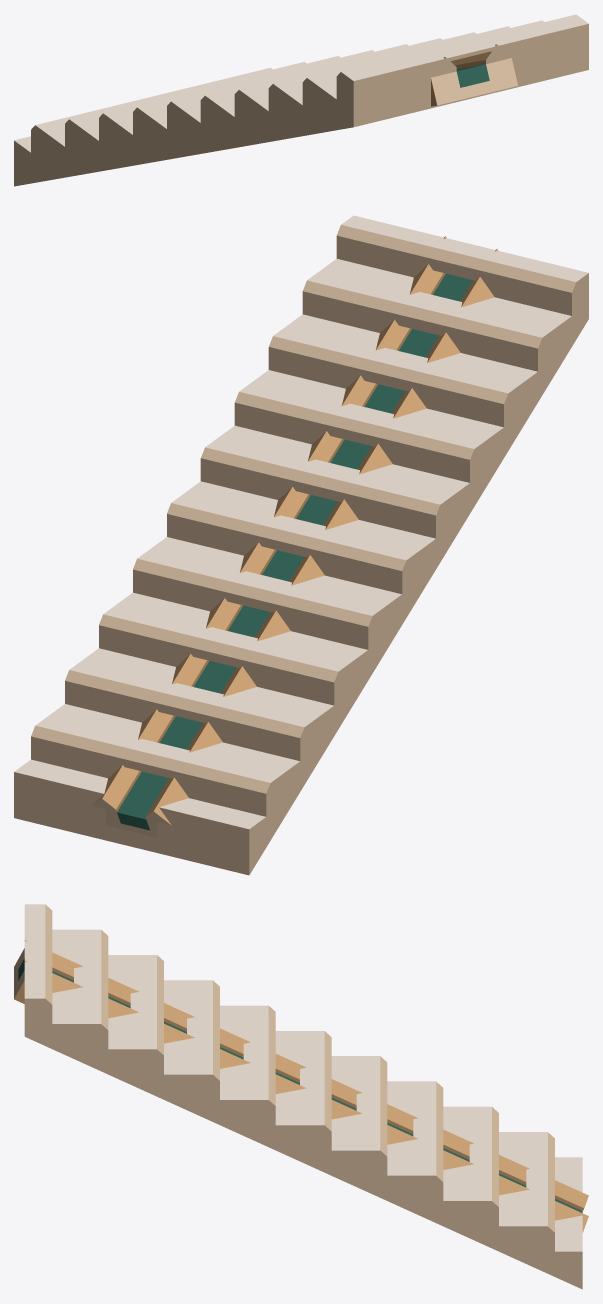
File: Puzzle_Steps_Conduit.fbx
3 renders of one model, top to bottom at view 1: azimuth 30°, elevation 25°; view 2: azimuth 150°, elevation 25°; view 3: azimuth 270°, elevation 25°, orthographic. The views are drawn at different scales.
Parts seen in each view (by area): view 1: Sandstone_Trim.Sandstone_Trim.Sandstone_Trim.Sandstone_Trim., Sandstone_Floor.Sandstone_Floor.Sandstone_Floor.Sandstone_Fl, Sandstone_Trim.Sandstone_Trim.Sandstone_Trim.Sandstone_Trim, object2, Sandstone_5.Sandstone_5.Sandstone_5.Sandstone_5.object1; view 2: Sandstone_Trim.Sandstone_Trim.Sandstone_Trim.Sandstone_Trim., Sandstone_Floor.Sandstone_Floor.Sandstone_Floor.Sandstone_Fl, Sandstone_5.Sandstone_5.Sandstone_5.Sandstone_5.object1, object2, Sandstone_Trim.Sandstone_Trim.Sandstone_Trim.Sandstone_Trim; view 3: Sandstone_Floor.Sandstone_Floor.Sandstone_Floor.Sandstone_Fl, Sandstone_Trim.Sandstone_Trim.Sandstone_Trim.Sandstone_Trim., Sandstone_5.Sandstone_5.Sandstone_5.Sandstone_5.object1, object2.
Part boxes in pixels (box(x1,y1,x2,y2)): Sandstone_Trim.Sandstone_Trim.Sandstone_Trim.Sandstone_Trim.: box(14, 24, 588, 186); Sandstone_Floor.Sandstone_Floor.Sandstone_Floor.Sandstone_Fl: box(14, 14, 588, 152); Sandstone_Trim.Sandstone_Trim.Sandstone_Trim.Sandstone_Trim: box(431, 44, 517, 105); object2: box(456, 64, 489, 87); Sandstone_5.Sandstone_5.Sandstone_5.Sandstone_5.object1: box(431, 44, 496, 106); Sandstone_Trim.Sandstone_Trim.Sandstone_Trim.Sandstone_Trim.: box(14, 225, 588, 875); Sandstone_Floor.Sandstone_Floor.Sandstone_Floor.Sandstone_Fl: box(14, 215, 588, 829); Sandstone_5.Sandstone_5.Sandstone_5.Sandstone_5.object1: box(92, 236, 498, 825); object2: box(117, 273, 472, 830); Sandstone_Trim.Sandstone_Trim.Sandstone_Trim.Sandstone_Trim: box(91, 799, 171, 837); Sandstone_Floor.Sandstone_Floor.Sandstone_Floor.Sandstone_Fl: box(24, 904, 582, 1251); Sandstone_Trim.Sandstone_Trim.Sandstone_Trim.Sandstone_Trim.: box(24, 904, 582, 1289); Sandstone_5.Sandstone_5.Sandstone_5.Sandstone_5.object1: box(14, 940, 588, 1232); object2: box(18, 958, 582, 1212).
Size of the model in its own units: 0.8 by 1.16 by 2.06.
